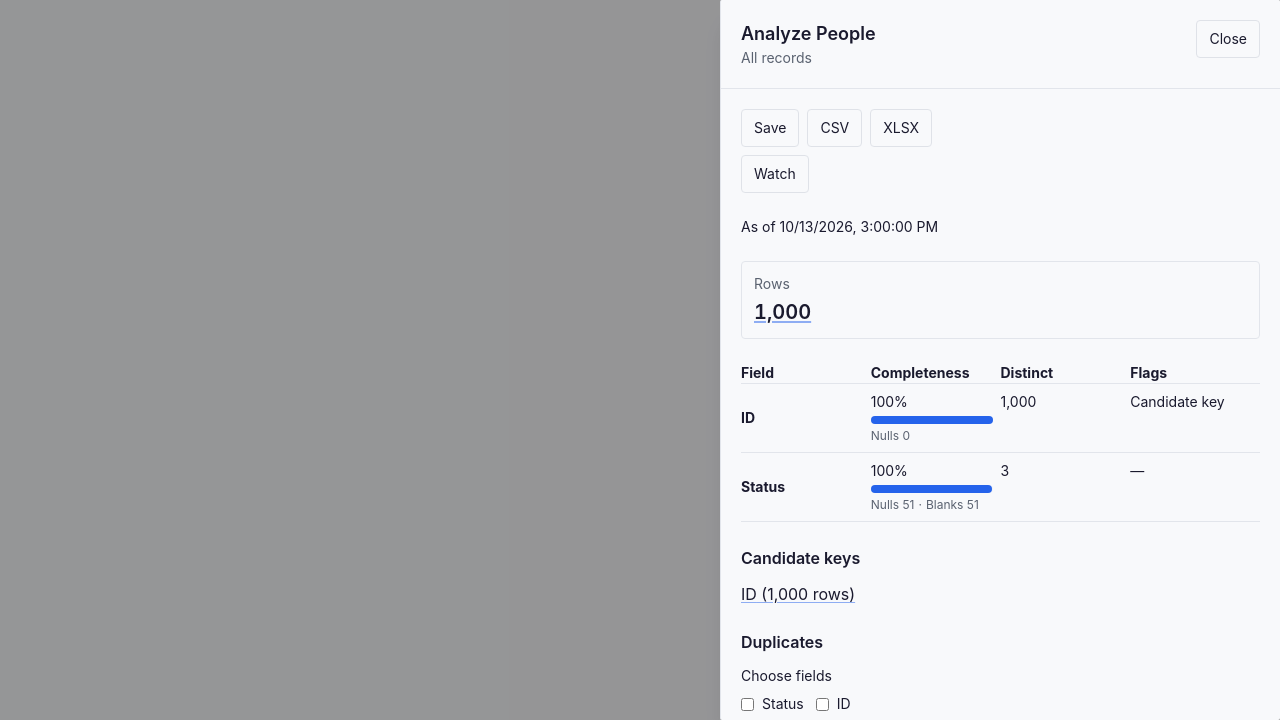
it: renders table completeness, keys and selected duplicate drills, with no axe violations
Expected: the table "Field Completeness" is shown, [741,363,1260,522]
Expected: the text "Candidate key" is shown, [1130,384,1260,452]
What coordinates should you click on to do the following:
click the checkbox labelled "Status"
I would click on:
 (748, 704)
Its box is [741,698,754,710].
(page scrolled)
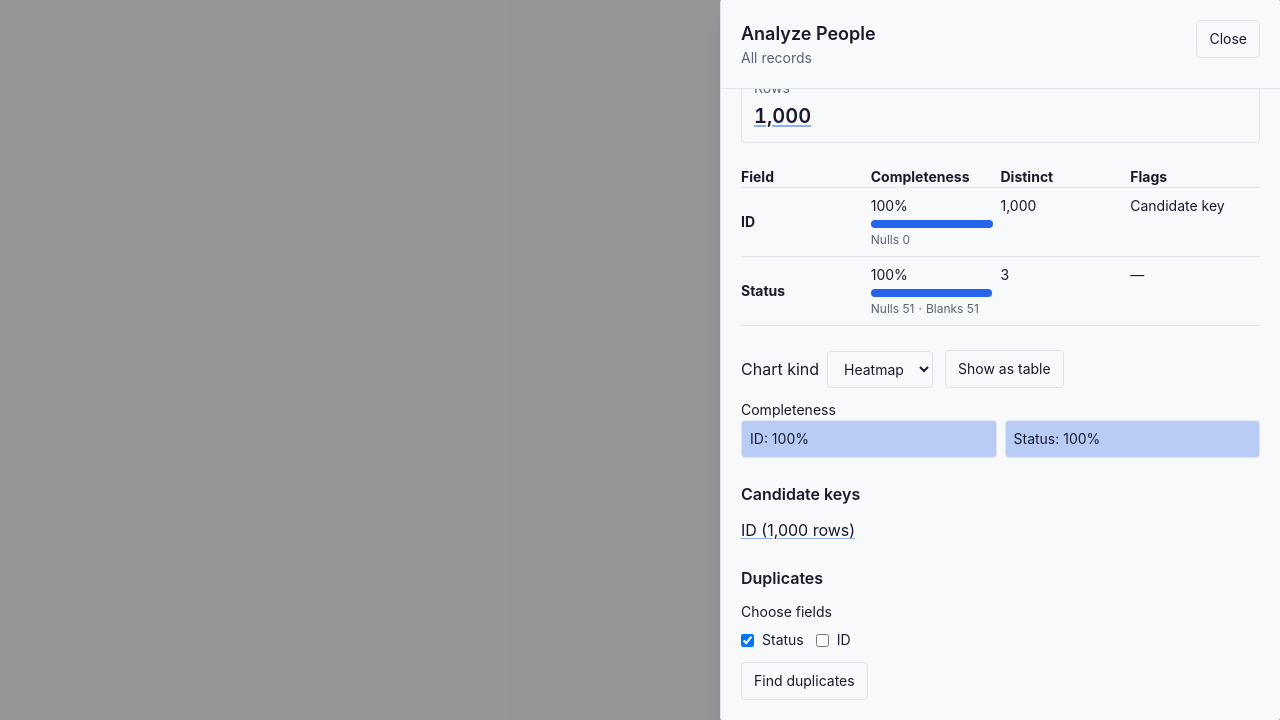
What coordinates should you click on to do the following:
click the button "Find duplicates"
I would click on:
 (804, 681)
Its box is [741,662,868,700].
(page scrolled)
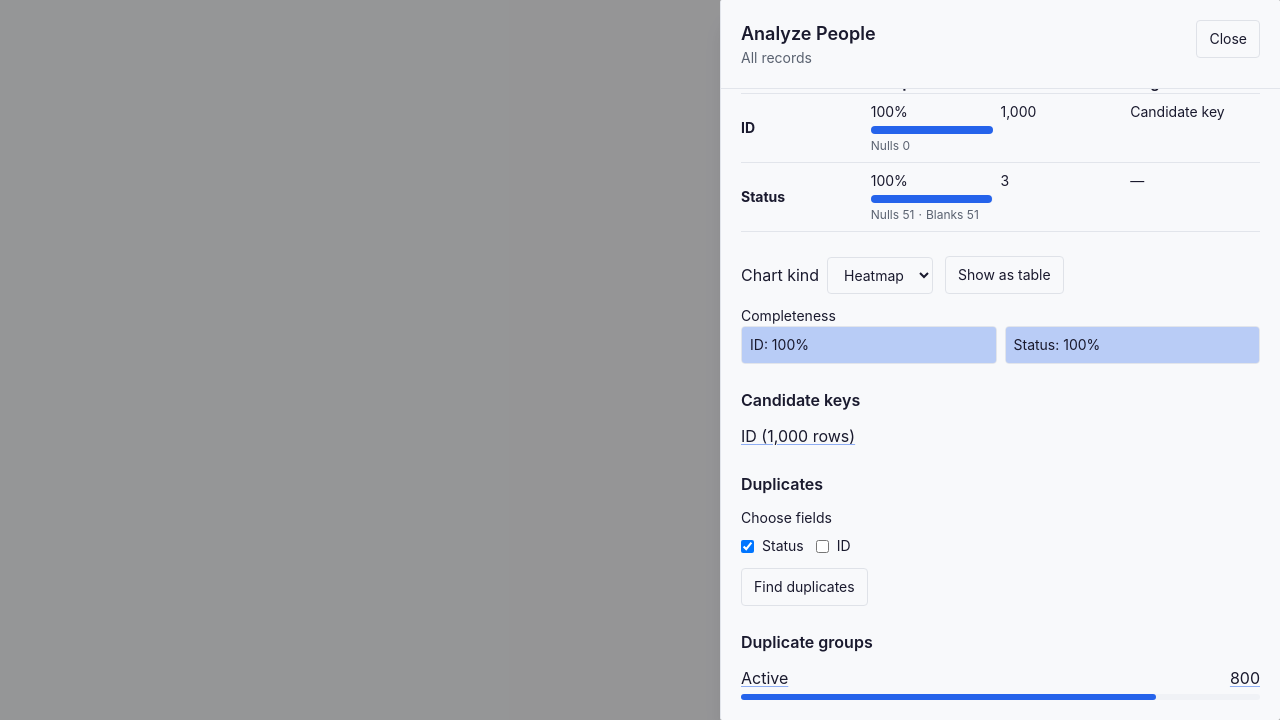
Expected: the link "Active 800" is shown, [741,666,1260,690]
